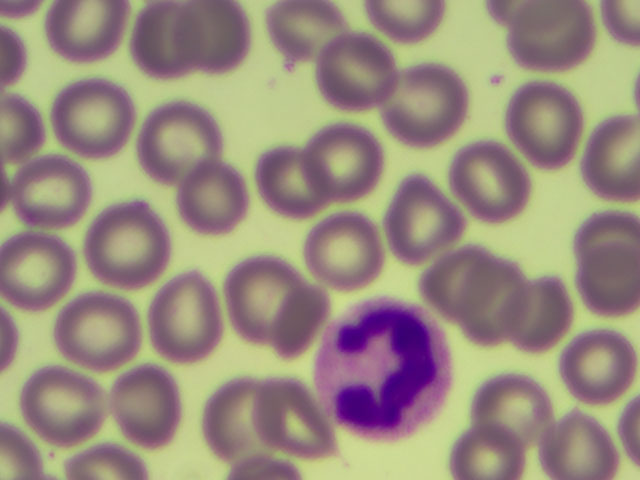Platelets: (486, 68, 509, 91), (280, 54, 301, 79)
RBC: (436, 394, 517, 480), (539, 394, 620, 480), (86, 200, 167, 285), (175, 167, 256, 252), (135, 103, 216, 188), (316, 30, 397, 115), (388, 62, 469, 147), (307, 124, 388, 209), (251, 141, 332, 226), (452, 143, 533, 228), (375, 178, 456, 263), (309, 212, 390, 297), (235, 262, 316, 347), (145, 271, 226, 356), (57, 292, 138, 377), (18, 364, 99, 449), (115, 365, 196, 450), (201, 377, 282, 462), (260, 375, 341, 460), (475, 360, 556, 445), (559, 322, 640, 407), (502, 279, 583, 364), (441, 256, 522, 341), (559, 221, 640, 306), (559, 115, 640, 200), (500, 84, 581, 169), (136, 1, 217, 85), (513, 1, 594, 85), (180, 1, 258, 82), (53, 80, 126, 149), (22, 153, 95, 222), (1, 232, 73, 301), (48, 1, 121, 69), (267, 1, 339, 54)
WBC: (316, 296, 452, 437)
